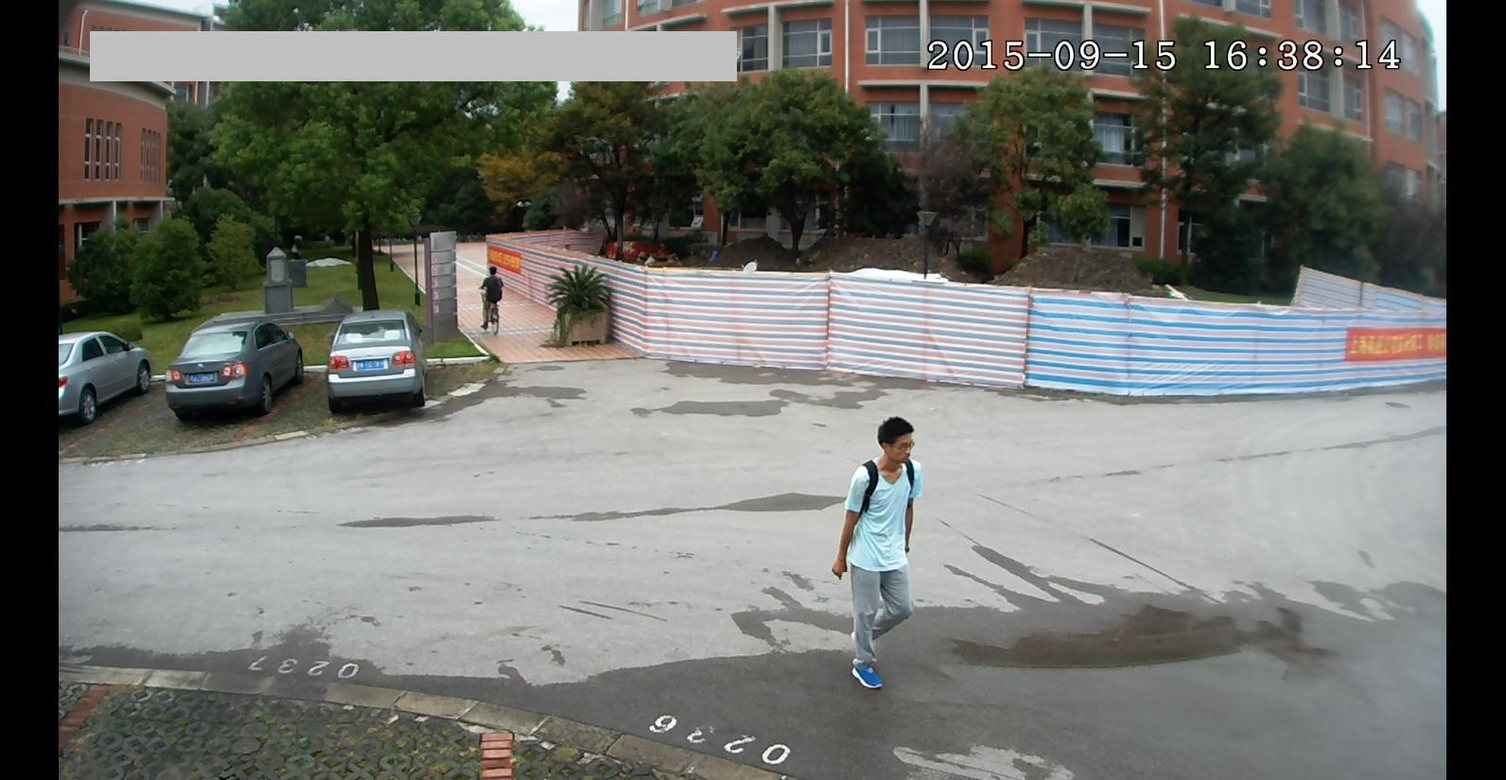person: (832, 411, 925, 686), (475, 260, 503, 328)
